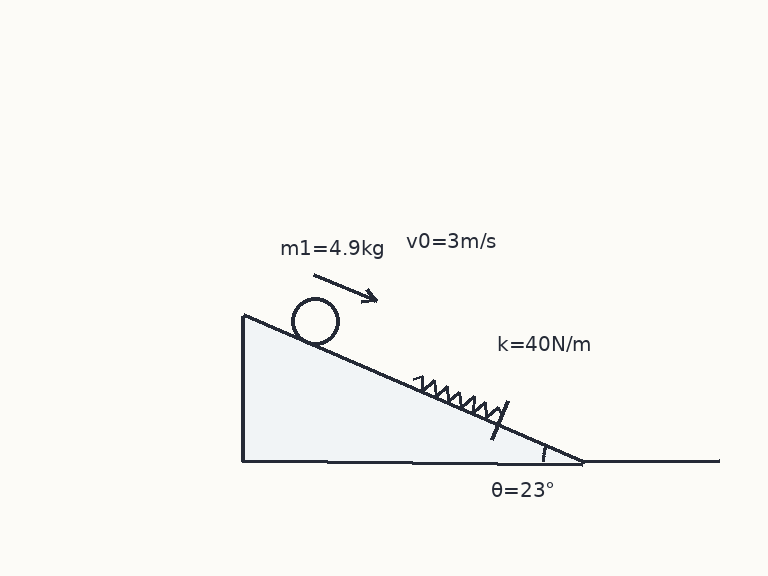ball: (289, 295, 341, 347)
ramp: (240, 314, 585, 463)
spring: (411, 373, 503, 420)
